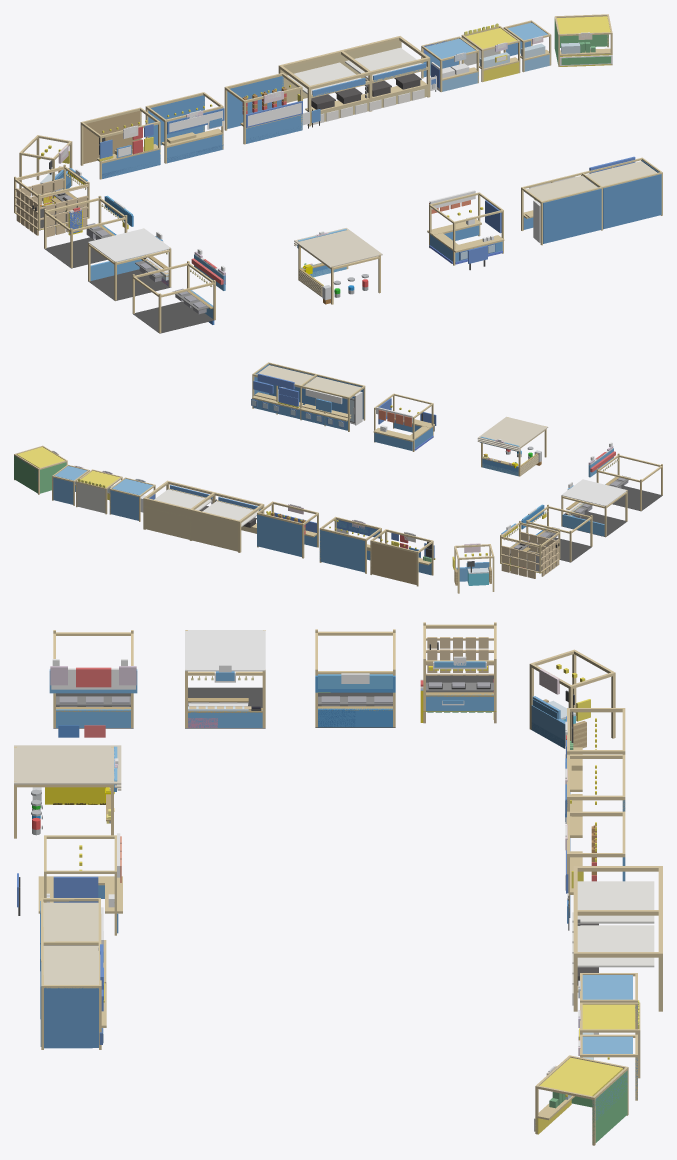
File: dongmun_food.glb
The picture shows the model from 3 angles, top to bottom: view 1: azimuth 30°, elevation 25°; view 2: azimuth 150°, elevation 25°; view 3: azimuth 270°, elevation 25°; orthographic projection. The views are drawn at different scales.
Visible parts, largest first — view 1: Geom3D (×28); view 2: Geom3D (×25); view 3: Geom3D (×22).
Part boxes in pixels (x1=…): Geom3D (×28): x1=44, y1=16, x2=661, y2=333; Geom3D (×25): x1=14, y1=365, x2=662, y2=584; Geom3D (×22): x1=14, y1=630, x2=654, y2=1142.
Bounding box in the file's own units: 85.53 × 7.32 × 51.37.
